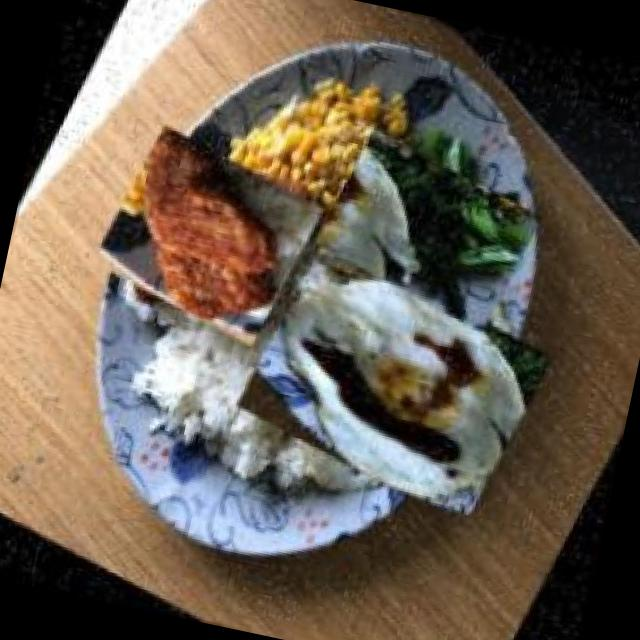fried_eggs: (228, 215, 560, 548)
rice: (132, 224, 343, 493)
triangle_hash_brown: (84, 110, 332, 360)
water_spinach: (310, 112, 547, 349)
